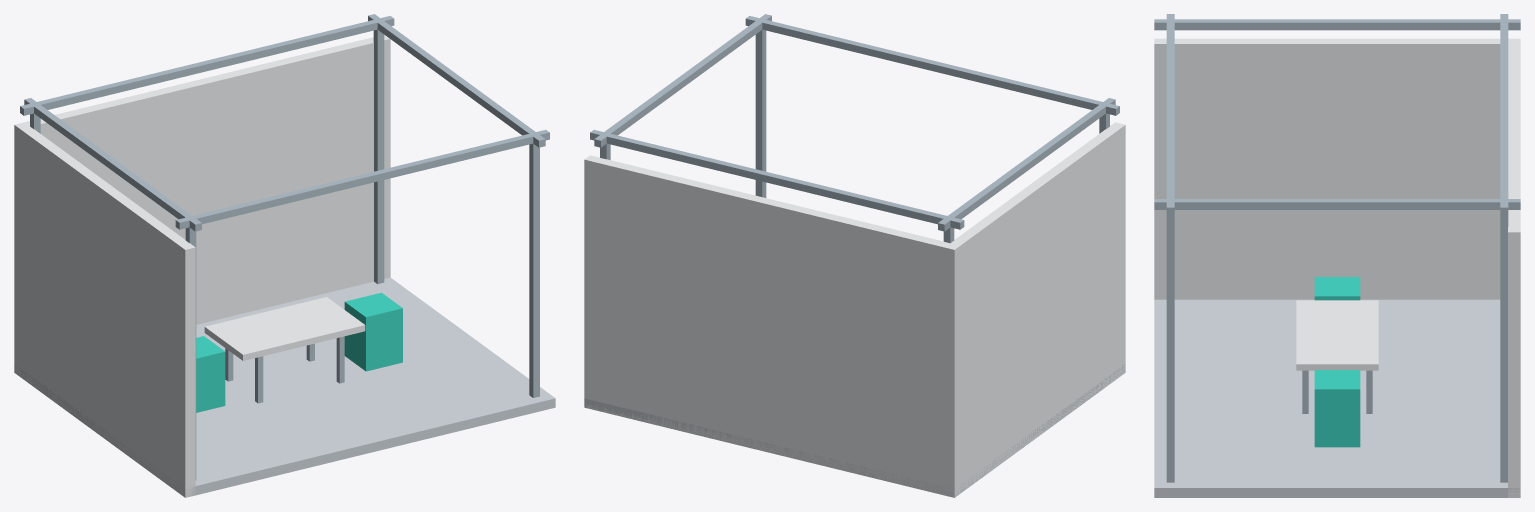
3 renders of one model, left to right at view 1: azimuth 30°, elevation 25°; view 2: azimuth 150°, elevation 25°; view 3: azimuth 270°, elevation 25°, orthographic. The views are drawn at different scales.
Visible parts, largest first — view 1: Exhibition Booth Concept; view 2: Exhibition Booth Concept; view 3: Exhibition Booth Concept.
Part boxes in pixels (<box>): Exhibition Booth Concept: <box>14,14,555,497</box>; Exhibition Booth Concept: <box>584,14,1125,497</box>; Exhibition Booth Concept: <box>1154,14,1520,497</box>.
Size of the model in its own units: 5 by 3.49 by 4.
